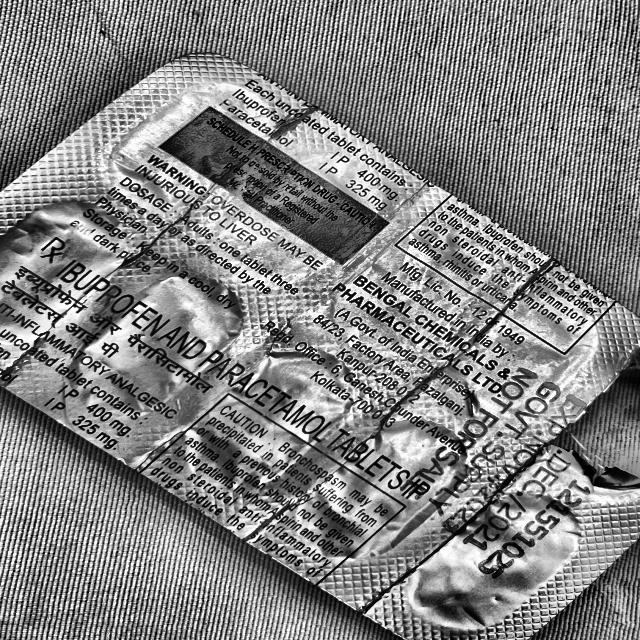IBUPROFEN AND PARACETAMOL TABLETS: (47, 249, 455, 518)
